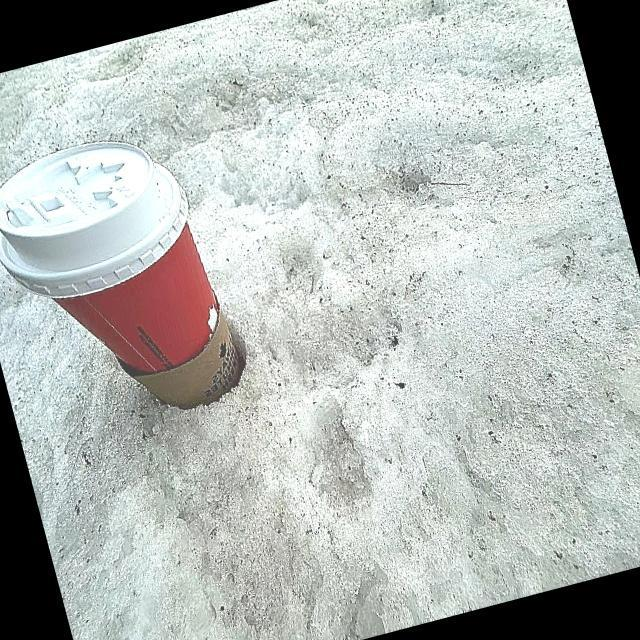timmies: (0, 110, 260, 460)
